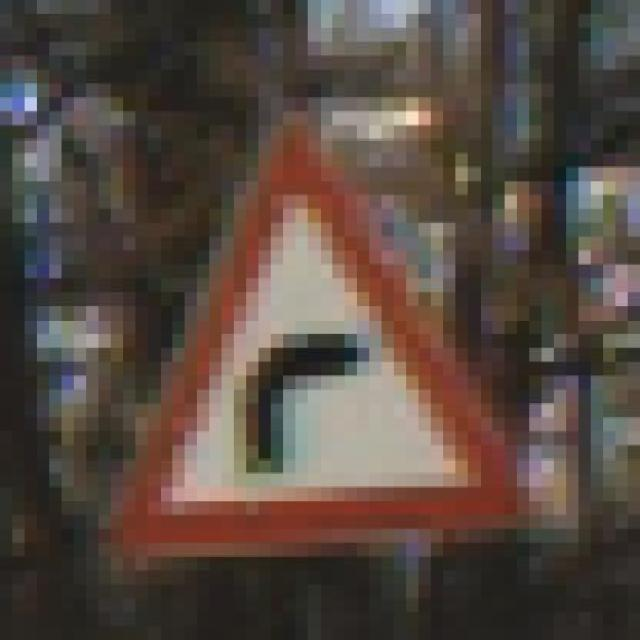Dangerous Rright Curve Ahead: (98, 111, 530, 557)
